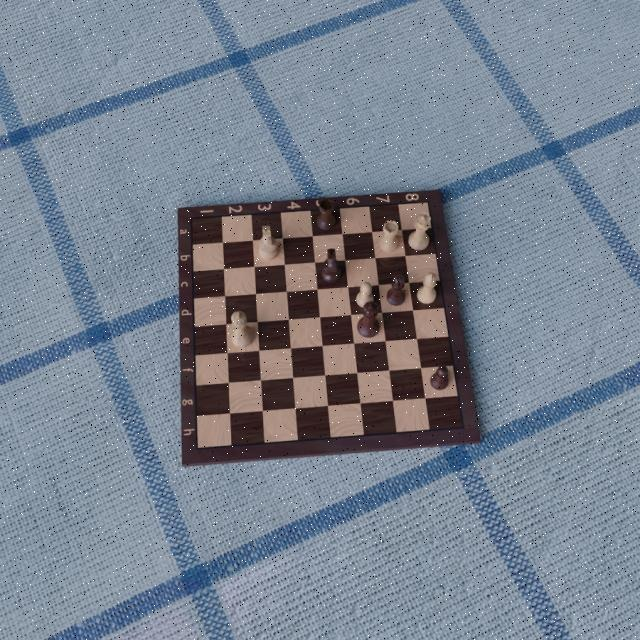black-bishop: (384, 273, 407, 307)
black-king: (356, 300, 381, 338)
black-knight: (322, 247, 342, 285)
black-pawn: (430, 366, 450, 390)
black-rook: (316, 197, 336, 233)
white-bishop: (417, 270, 438, 306)
white-king: (227, 310, 255, 348)
white-knight: (257, 224, 282, 260)
white-queen: (406, 211, 431, 252)
white-rook: (378, 218, 401, 253)
